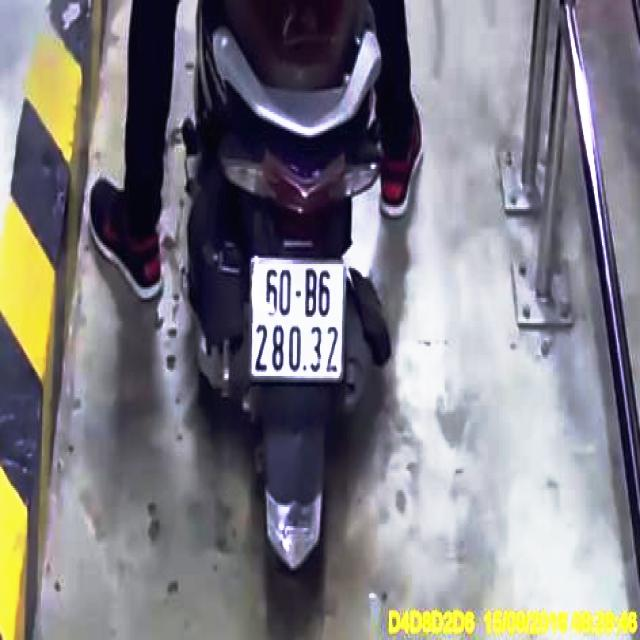license_plate: (250, 256, 345, 374)
